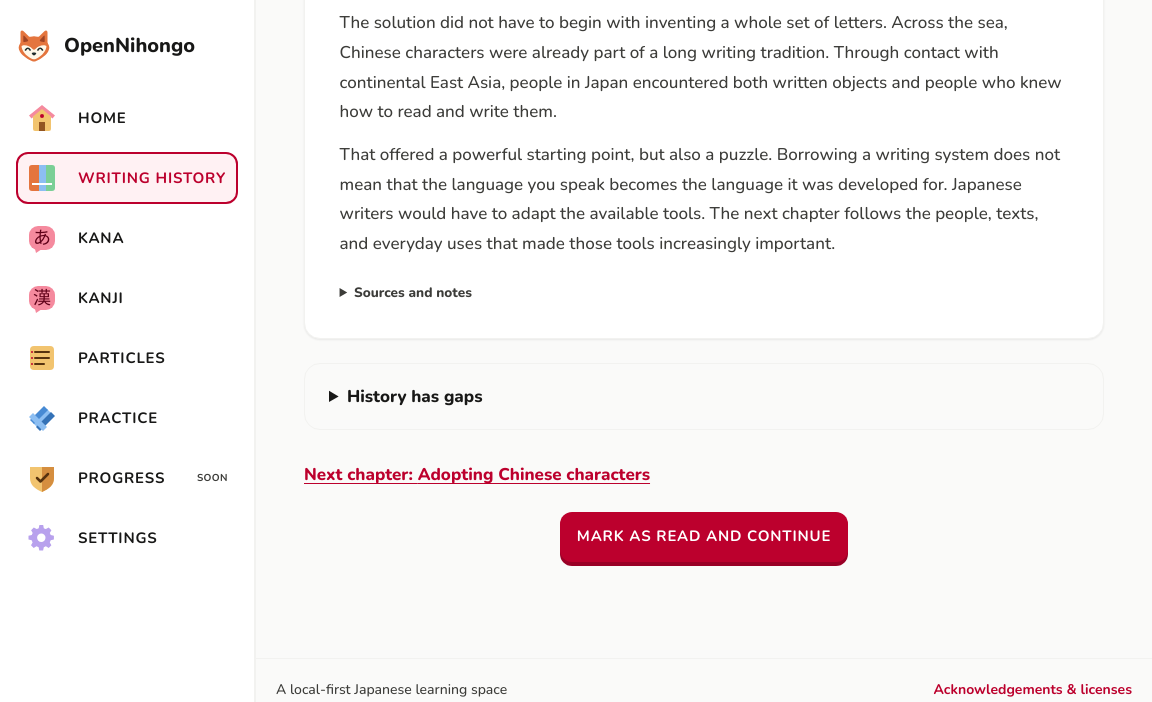
Test: writing history reader › preserves failed completion across chapter navigation and retries
(page scrolled)
What coordinates should you click on to do the following:
click the button "Mark as read and continue"
I would click on:
 (704, 537)
Its box is left=560, top=512, right=848, bottom=562.
(page scrolled)
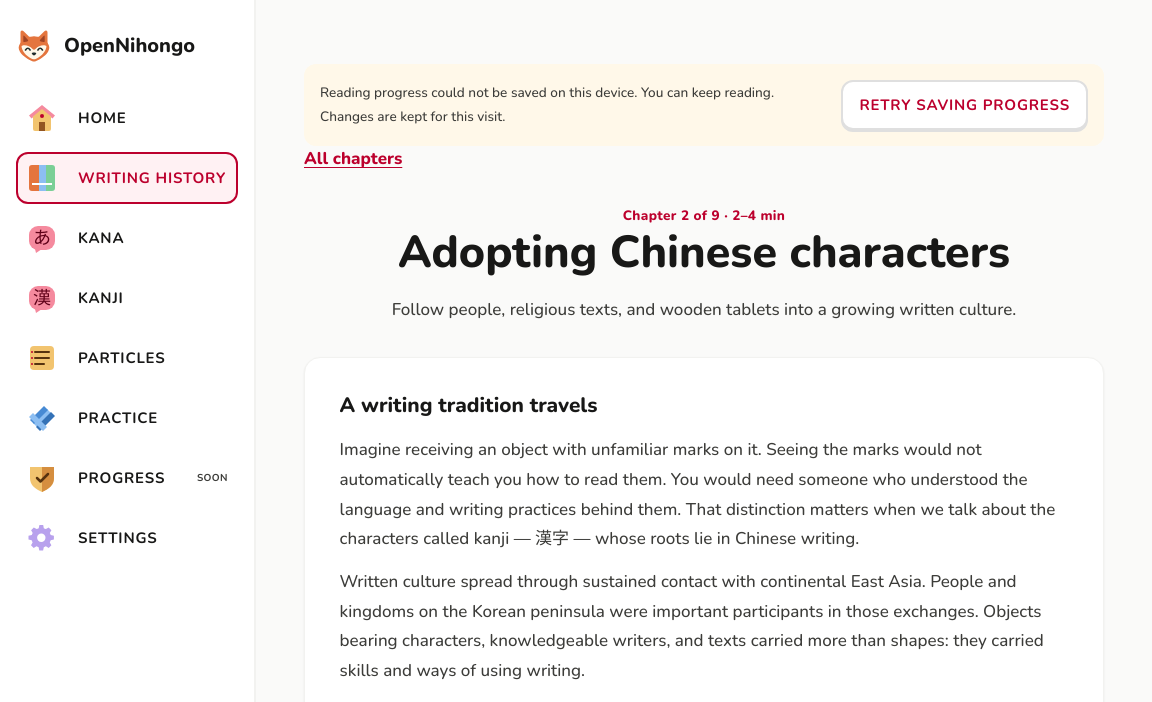
Expected: the heading "Adopting Chinese characters" is shown, left=368, top=227, right=1040, bottom=279
Expected: the message is shown, left=304, top=64, right=1104, bottom=146
What coordinates should you click on to do the following:
click the button "Retry saving progress"
I would click on:
 (965, 105)
Its box is left=842, top=80, right=1088, bottom=130.
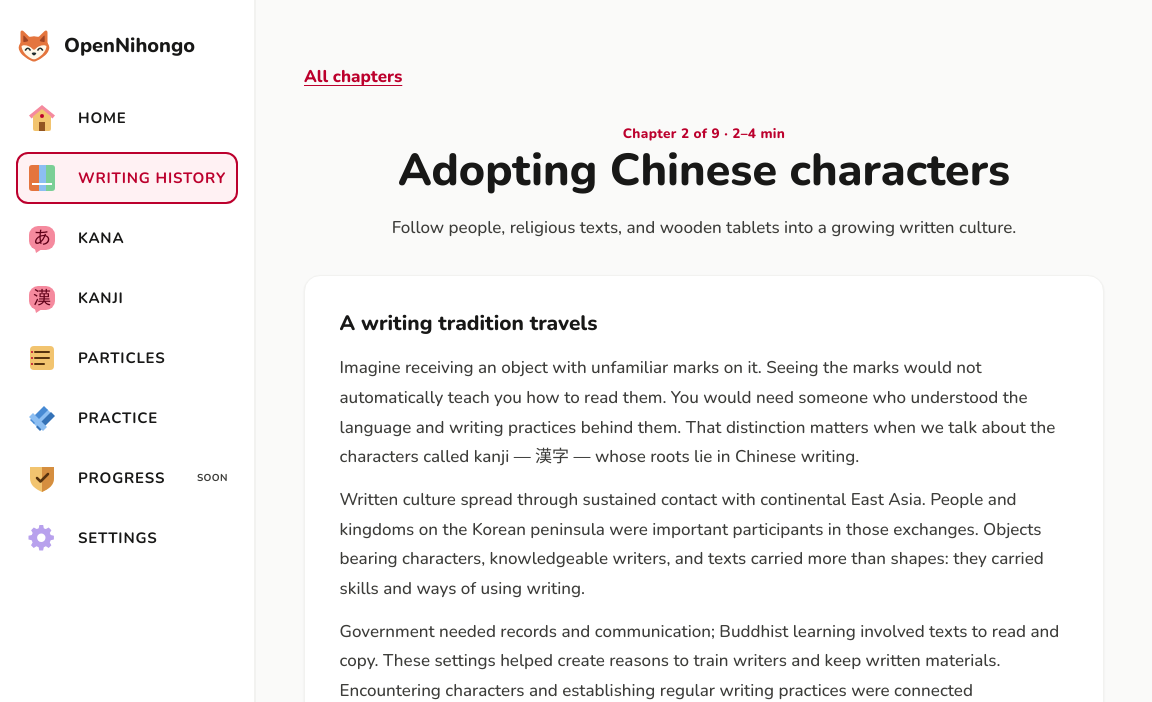
Expected: the message is gone
